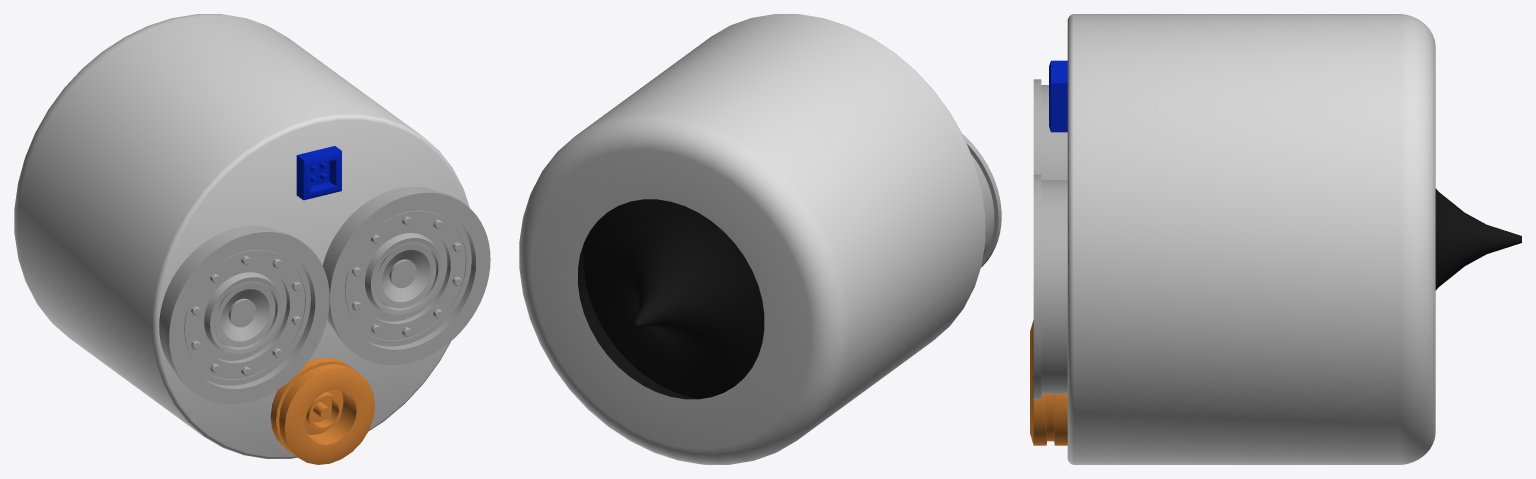
File: SmallThruster.gltf
The picture shows the model from 3 angles, left to right: view 1: azimuth 30°, elevation 25°; view 2: azimuth 150°, elevation 25°; view 3: azimuth 270°, elevation 25°; orthographic projection. The views are drawn at different scales.
Parts seen in each view (by area): view 1: thruster; view 2: thruster, spike; view 3: thruster, spike.
Boxes of the visible parts, box(x1,y1,x2,y2) form: thruster: box(14, 14, 490, 464); thruster: box(519, 14, 1001, 464); spike: box(583, 199, 764, 398); thruster: box(1030, 14, 1435, 464); spike: box(1435, 188, 1521, 290).
Bounding box in the file's own units: 0.5 × 0.5 × 0.5454.
